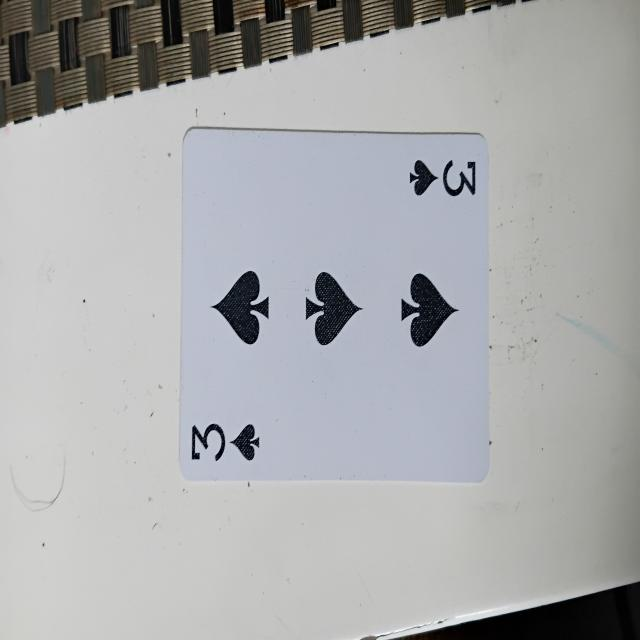3S: (178, 121, 494, 488)
